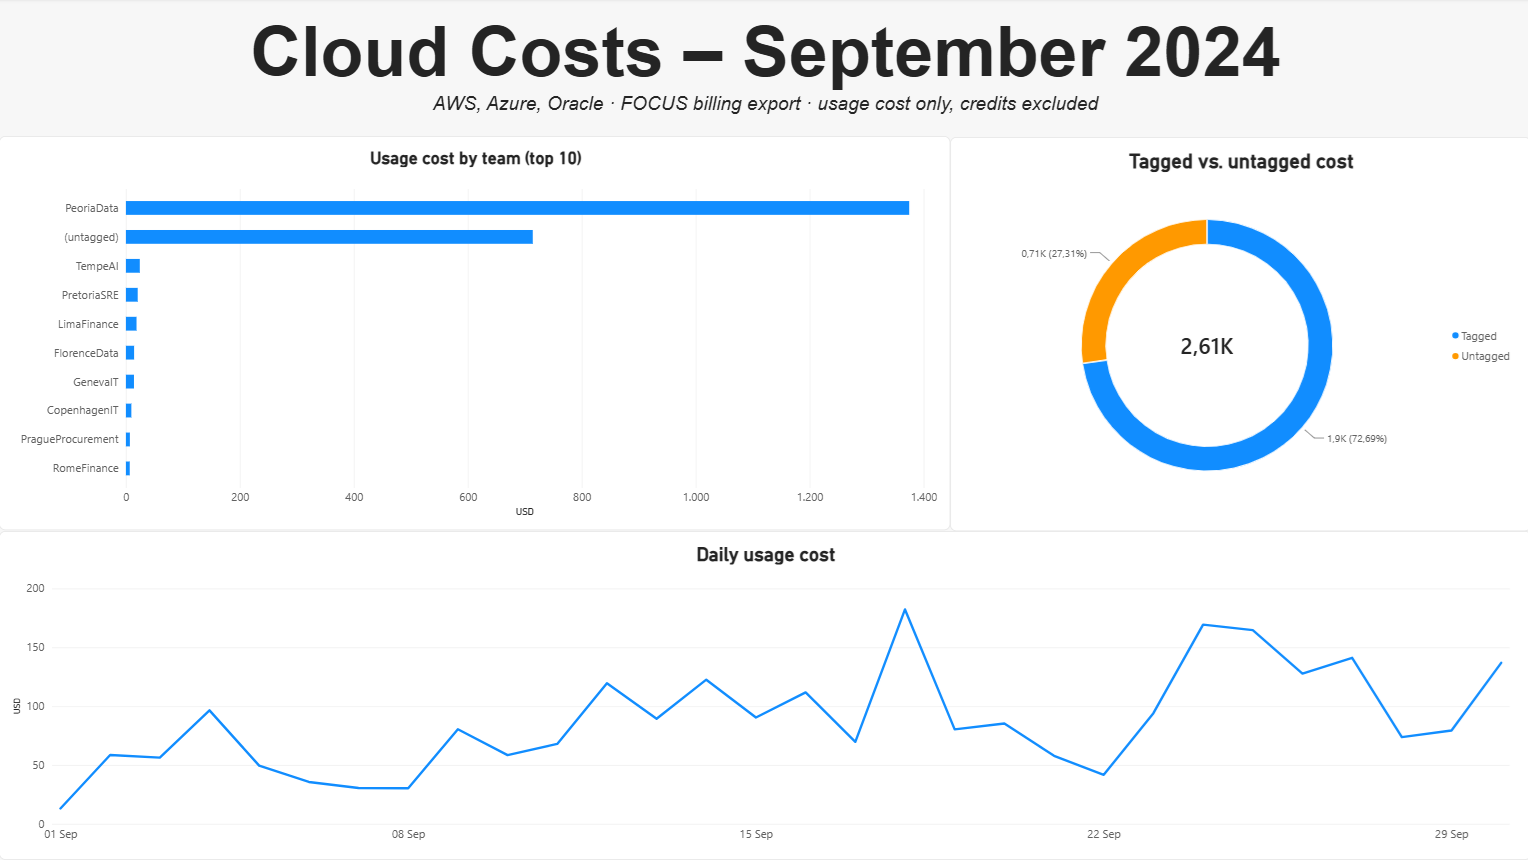

This screenshot's page, from the dashboard's own definition file:
{"tool":"powerbi","page":{"name":"Page 1","canvas":[1920,1080],"ordinal":0},"visuals":[{"type":"clusteredBarChart","title":"Usage cost by team (top 10)","fields":{"Category":["powerbi_costs.Team"],"Y":["powerbi_costs.Usage Cost"]},"box":[0,173.2,1192.5,494.5],"z":0},{"type":"donutChart","title":"Tagged vs. untagged cost","fields":{"Category":["powerbi_costs.DAXTag status"],"Y":["powerbi_costs.Usage Cost"]},"box":[1192,174,728,494],"z":1},{"type":"lineChart","title":"Daily usage cost","fields":{"Category":["powerbi_costs.Date"],"Y":["powerbi_costs.Usage Cost"]},"box":[0,668,1920,412],"z":2},{"type":"textbox","box":[0,16.1,1920.8,157.1],"z":3}]}

Visuals, with their boxes in screenshot pixels (x1, y1, x2, y2), scaled from the page's 1920x1080 canvas onto the 1528x860 screenshot:
"Usage cost by team (top 10)" clusteredBarChart: <region>0, 138, 949, 532</region>
"Tagged vs. untagged cost" donutChart: <region>949, 139, 1527, 532</region>
"Daily usage cost" lineChart: <region>0, 532, 1527, 859</region>
textbox: <region>0, 13, 1527, 138</region>
